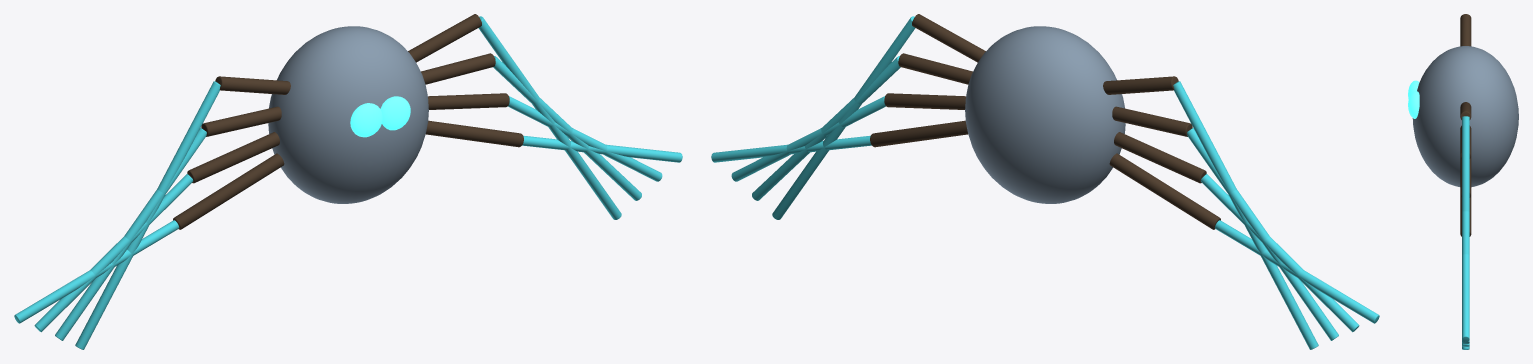
The model's file is arachnid_v5.glb.
3 views of the same model, side by side, from view 1: azimuth 30°, elevation 25°; view 2: azimuth 150°, elevation 25°; view 3: azimuth 270°, elevation 25° (orthographic). The views are drawn at different scales.
Visible parts, largest first — view 1: HARVESTMAN_BODY_PRIMARY, HARVESTMAN_LOWER_ACCENT, HARVESTMAN_LOWER_ACCENT.001, HARVESTMAN_LOWER_ACCENT.002, HARVESTMAN_UPPER_SECONDARY.006, HARVESTMAN_LOWER_ACCENT.004, HARVESTMAN_LOWER_ACCENT.003, HARVESTMAN_LOWER_ACCENT.006, HARVESTMAN_LOWER_ACCENT.007, HARVESTMAN_LOWER_ACCENT.005, HARVESTMAN_UPPER_SECONDARY.007, HARVESTMAN_UPPER_SECONDARY.004 (+7 smaller); view 2: HARVESTMAN_BODY_PRIMARY, HARVESTMAN_LOWER_ACCENT, HARVESTMAN_LOWER_ACCENT.001, HARVESTMAN_LOWER_ACCENT.002, HARVESTMAN_UPPER_SECONDARY.006, HARVESTMAN_LOWER_ACCENT.004, HARVESTMAN_LOWER_ACCENT.003, HARVESTMAN_LOWER_ACCENT.006, HARVESTMAN_LOWER_ACCENT.007, HARVESTMAN_LOWER_ACCENT.005, HARVESTMAN_UPPER_SECONDARY.007, HARVESTMAN_UPPER_SECONDARY.004 (+5 smaller); view 3: HARVESTMAN_BODY_PRIMARY, HARVESTMAN_LOWER_ACCENT.001, HARVESTMAN_LOWER_ACCENT.007, HARVESTMAN_UPPER_SECONDARY, HARVESTMAN_LOWER_ACCENT.003, HARVESTMAN_LOWER_ACCENT.005, EYE_EMISSIVE.001, HARVESTMAN_UPPER_SECONDARY.005, HARVESTMAN_UPPER_SECONDARY.007, HARVESTMAN_UPPER_SECONDARY.001, HARVESTMAN_UPPER_SECONDARY.003, EYE_EMISSIVE.
Boxes of the visible parts, x1,y1,x2,y2 form: HARVESTMAN_BODY_PRIMARY: (268,26,428,203); HARVESTMAN_LOWER_ACCENT: (75,81,220,349); HARVESTMAN_LOWER_ACCENT.001: (478,16,621,219); HARVESTMAN_LOWER_ACCENT.002: (55,128,206,340); HARVESTMAN_UPPER_SECONDARY.006: (173,153,284,229); HARVESTMAN_LOWER_ACCENT.004: (34,174,193,332); HARVESTMAN_LOWER_ACCENT.003: (493,56,641,200); HARVESTMAN_LOWER_ACCENT.006: (14,220,178,323); HARVESTMAN_LOWER_ACCENT.007: (522,135,682,162); HARVESTMAN_LOWER_ACCENT.005: (508,96,662,181); HARVESTMAN_UPPER_SECONDARY.007: (426,120,523,147); HARVESTMAN_UPPER_SECONDARY.004: (187,132,279,183); HARVESTMAN_BODY_PRIMARY: (965,26,1125,203); HARVESTMAN_LOWER_ACCENT: (1173,81,1318,349); HARVESTMAN_LOWER_ACCENT.001: (772,16,915,219); HARVESTMAN_LOWER_ACCENT.002: (1187,128,1338,340); HARVESTMAN_UPPER_SECONDARY.006: (1109,153,1220,229); HARVESTMAN_LOWER_ACCENT.004: (1200,174,1359,332); HARVESTMAN_LOWER_ACCENT.003: (752,56,900,200); HARVESTMAN_LOWER_ACCENT.006: (1215,220,1379,323); HARVESTMAN_LOWER_ACCENT.007: (711,135,871,162); HARVESTMAN_LOWER_ACCENT.005: (731,96,885,181); HARVESTMAN_UPPER_SECONDARY.007: (870,120,967,147); HARVESTMAN_UPPER_SECONDARY.004: (1114,132,1206,183); HARVESTMAN_BODY_PRIMARY: (1412,46,1518,187); HARVESTMAN_LOWER_ACCENT.001: (1462,116,1469,349); HARVESTMAN_LOWER_ACCENT.007: (1462,287,1469,341); HARVESTMAN_UPPER_SECONDARY: (1460,14,1471,46); HARVESTMAN_LOWER_ACCENT.003: (1462,211,1469,346); HARVESTMAN_LOWER_ACCENT.005: (1462,254,1469,344); EYE_EMISSIVE.001: (1408,91,1419,118); HARVESTMAN_UPPER_SECONDARY.005: (1460,157,1471,197); HARVESTMAN_UPPER_SECONDARY.007: (1460,196,1471,236); HARVESTMAN_UPPER_SECONDARY.001: (1460,102,1471,119); HARVESTMAN_UPPER_SECONDARY.003: (1460,125,1471,158); EYE_EMISSIVE: (1408,80,1419,98).
Size of the model in its own units: 3.83 by 1.39 by 0.71.
